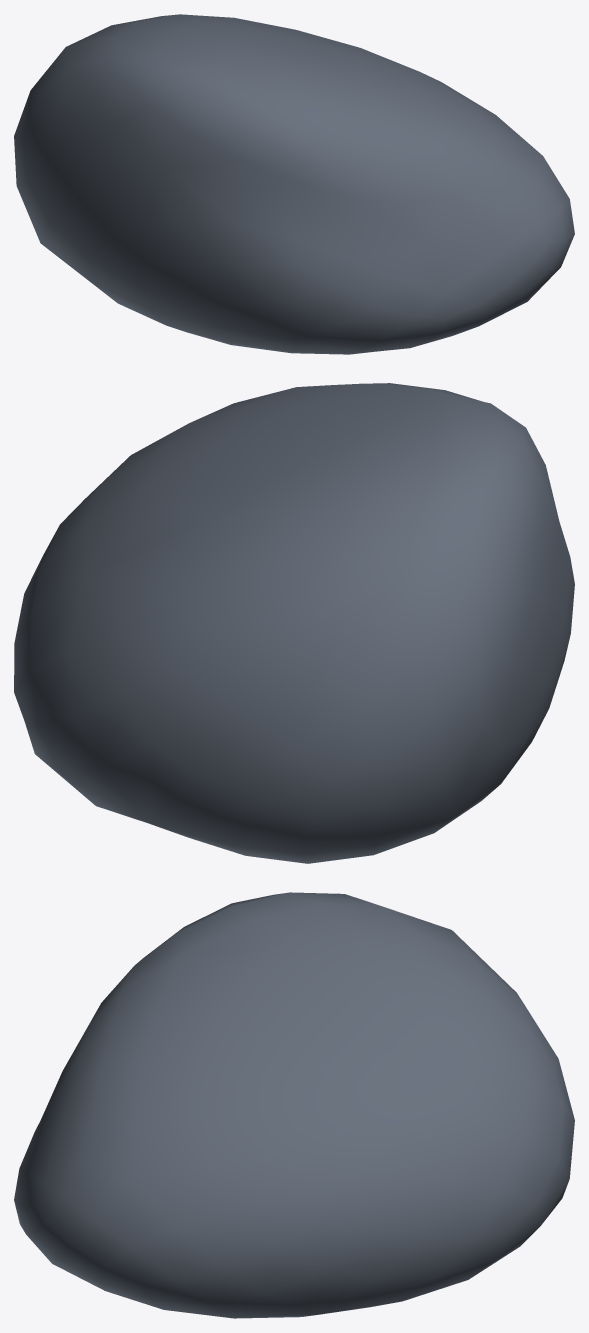
Rendered from RockSmall_B.fbx.
3 views of the same model, one above another, from view 1: azimuth 30°, elevation 25°; view 2: azimuth 150°, elevation 25°; view 3: azimuth 270°, elevation 25° (orthographic). The views are drawn at different scales.
Parts seen in each view (by area): view 1: RockSmall_B; view 2: RockSmall_B; view 3: RockSmall_B.
Part boxes in pixels (x1,y1,x2,y2): RockSmall_B: (14, 14, 574, 354); RockSmall_B: (14, 383, 574, 863); RockSmall_B: (14, 892, 574, 1318).
Bounding box in the file's own units: 56.57 × 36.95 × 63.06.
